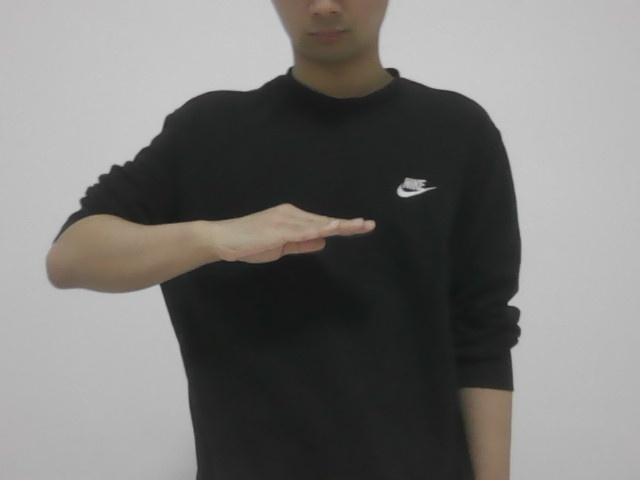late/night: (210, 193, 385, 273)
